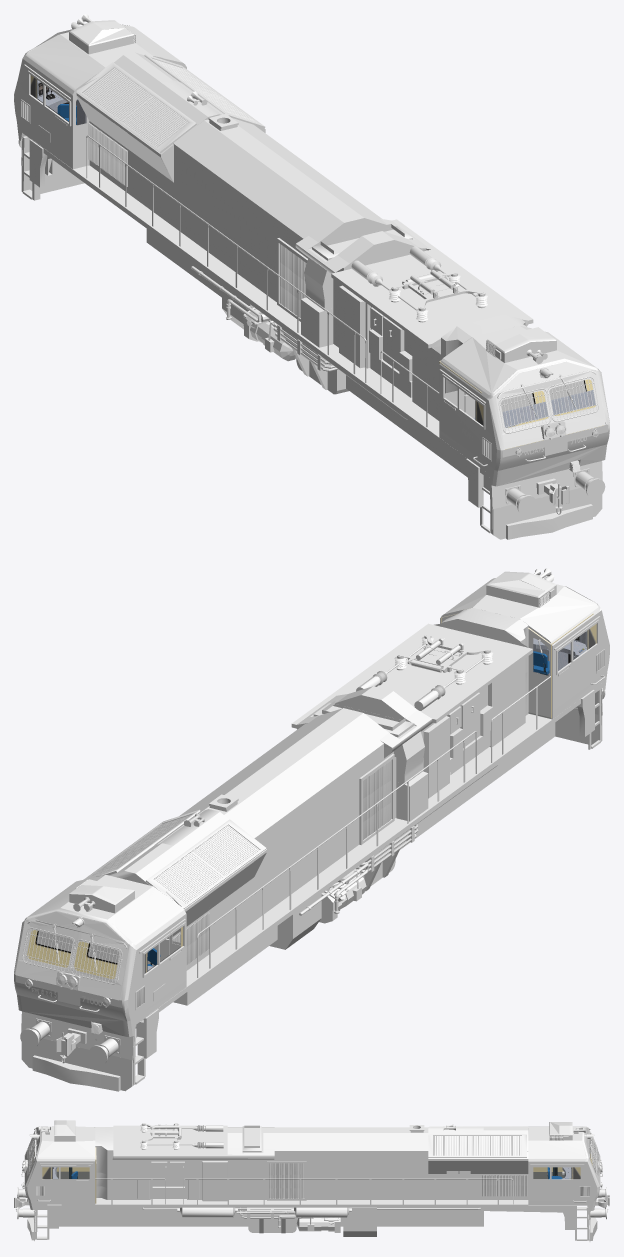
The model's file is loco_wdap5_std_2.glb.
3 renders of one model, top to bottom at view 1: azimuth 30°, elevation 25°; view 2: azimuth 150°, elevation 25°; view 3: azimuth 270°, elevation 25°, orthographic. The views are drawn at different scales.
Parts seen in each view (by area): view 1: wdap5_2.glb; view 2: wdap5_2.glb; view 3: wdap5_2.glb.
Boxes of the visible parts, x1,y1,x2,y2 form: wdap5_2.glb: (14, 14, 609, 539); wdap5_2.glb: (14, 568, 609, 1091); wdap5_2.glb: (14, 1120, 609, 1242).
Bounding box in the file's own units: 3.1 × 4.18 × 21.75.
Materials: 56 (2 with a texture image).
